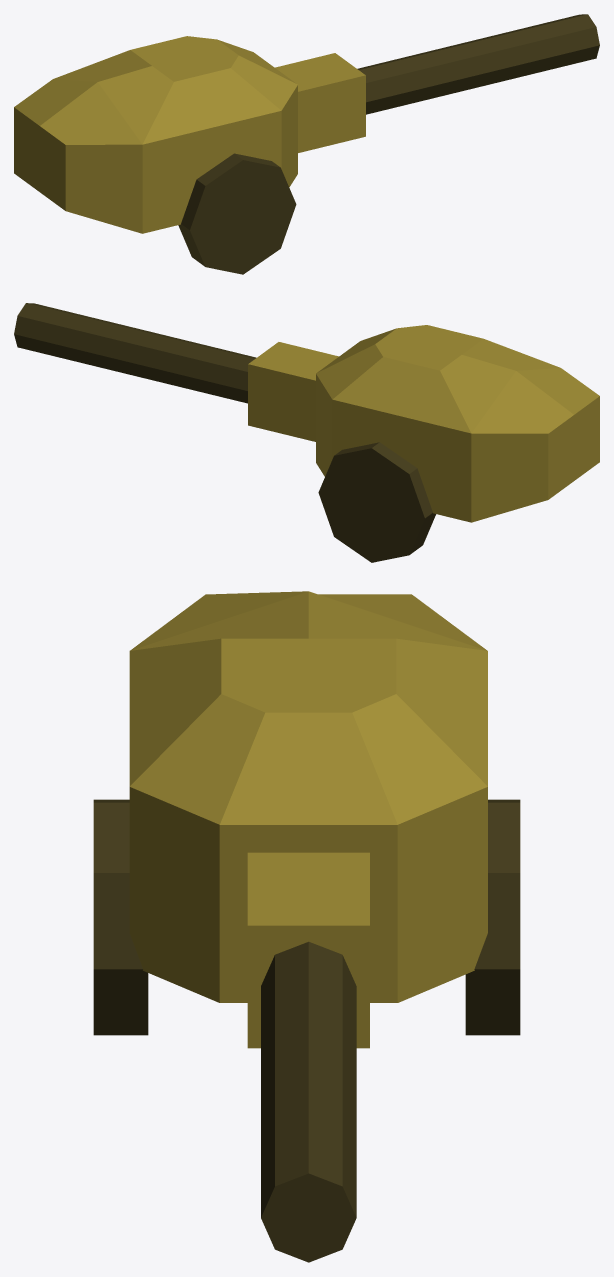
File: gun.obj
The picture shows the model from 3 angles, top to bottom: view 1: azimuth 30°, elevation 25°; view 2: azimuth 150°, elevation 25°; view 3: azimuth 270°, elevation 25°; orthographic projection. The views are drawn at different scales.
Parts seen in each view (by area): view 1: Gun; view 2: Gun; view 3: Gun.
Part boxes in pixels (x1=…): Gun: x1=14, y1=14, x2=599, y2=274; Gun: x1=14, y1=303, x2=599, y2=562; Gun: x1=93, y1=591, x2=520, y2=1262.
Size of the model in its own units: 8.21 by 2.56 by 2.77.
